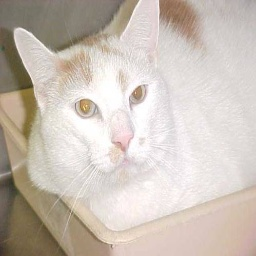cat: (11, 1, 256, 231)
